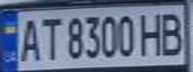0: (115, 11, 139, 58), (100, 12, 118, 60)
3: (81, 12, 103, 60)
8: (63, 12, 84, 60)
A: (15, 15, 42, 63)
B: (157, 8, 190, 56)
H: (136, 9, 166, 57)
T: (36, 14, 63, 61)
